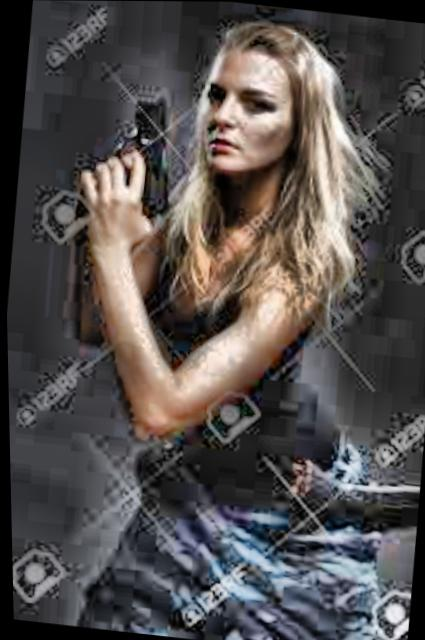pistol: (75, 70, 175, 222)
